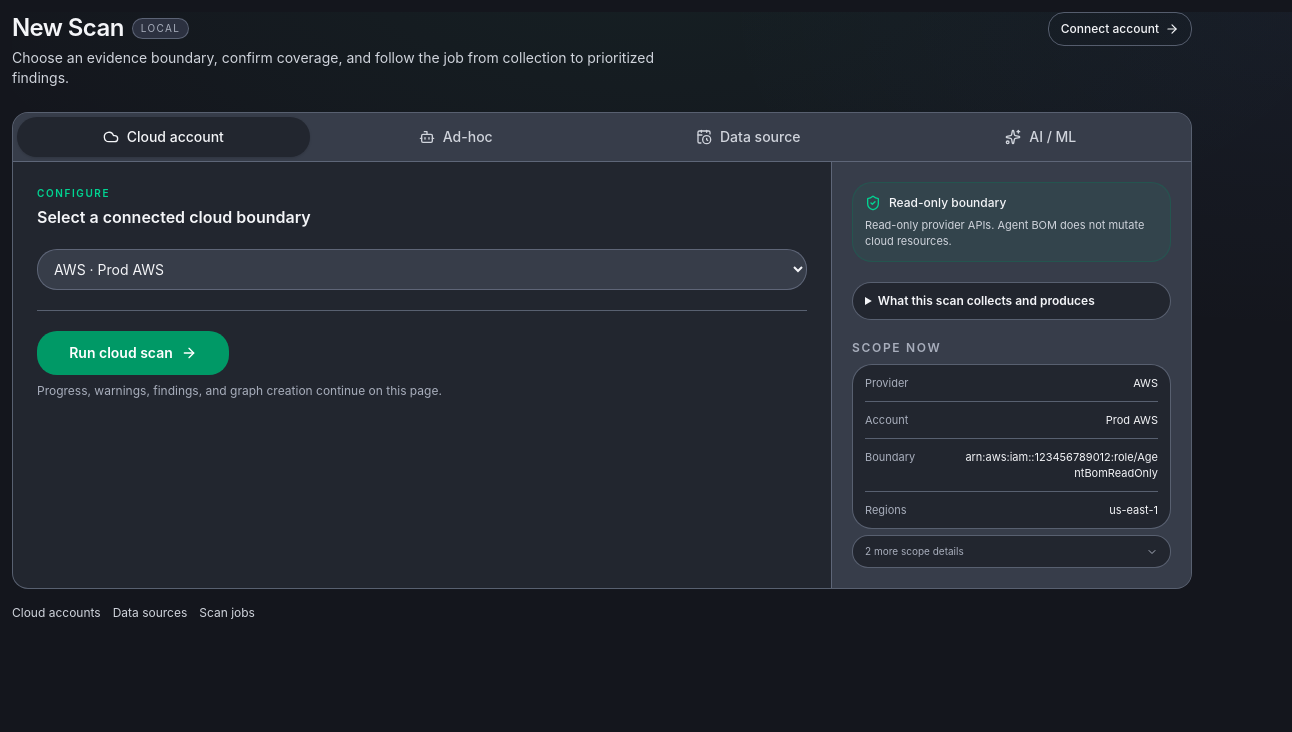
it: ScanForm › keeps denied operational reads unavailable instead of reporting factual zero
The width and height of the screenshot is (1292, 732).
Click the tab "Data source" at (748, 137), box [602,117,894,157]
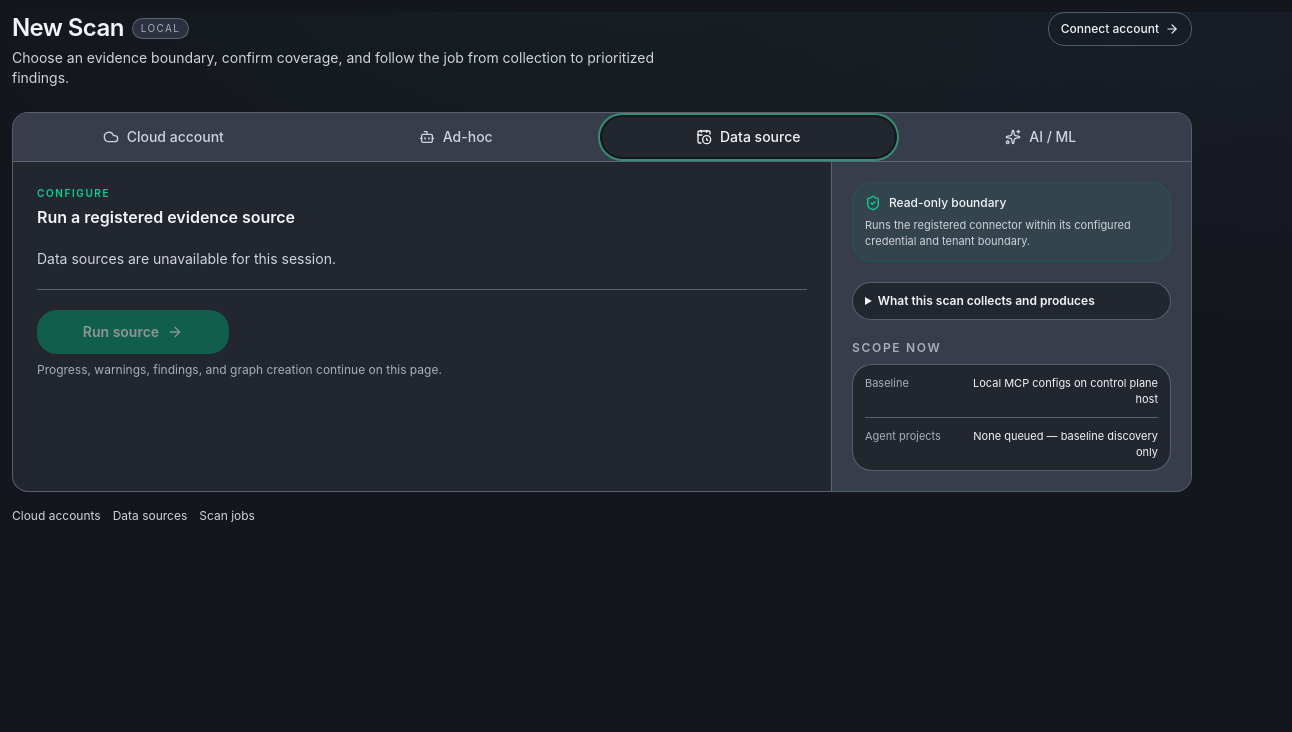
Expected: the text "Data sources are unavailable for this session." is shown, [37,250,336,267]
